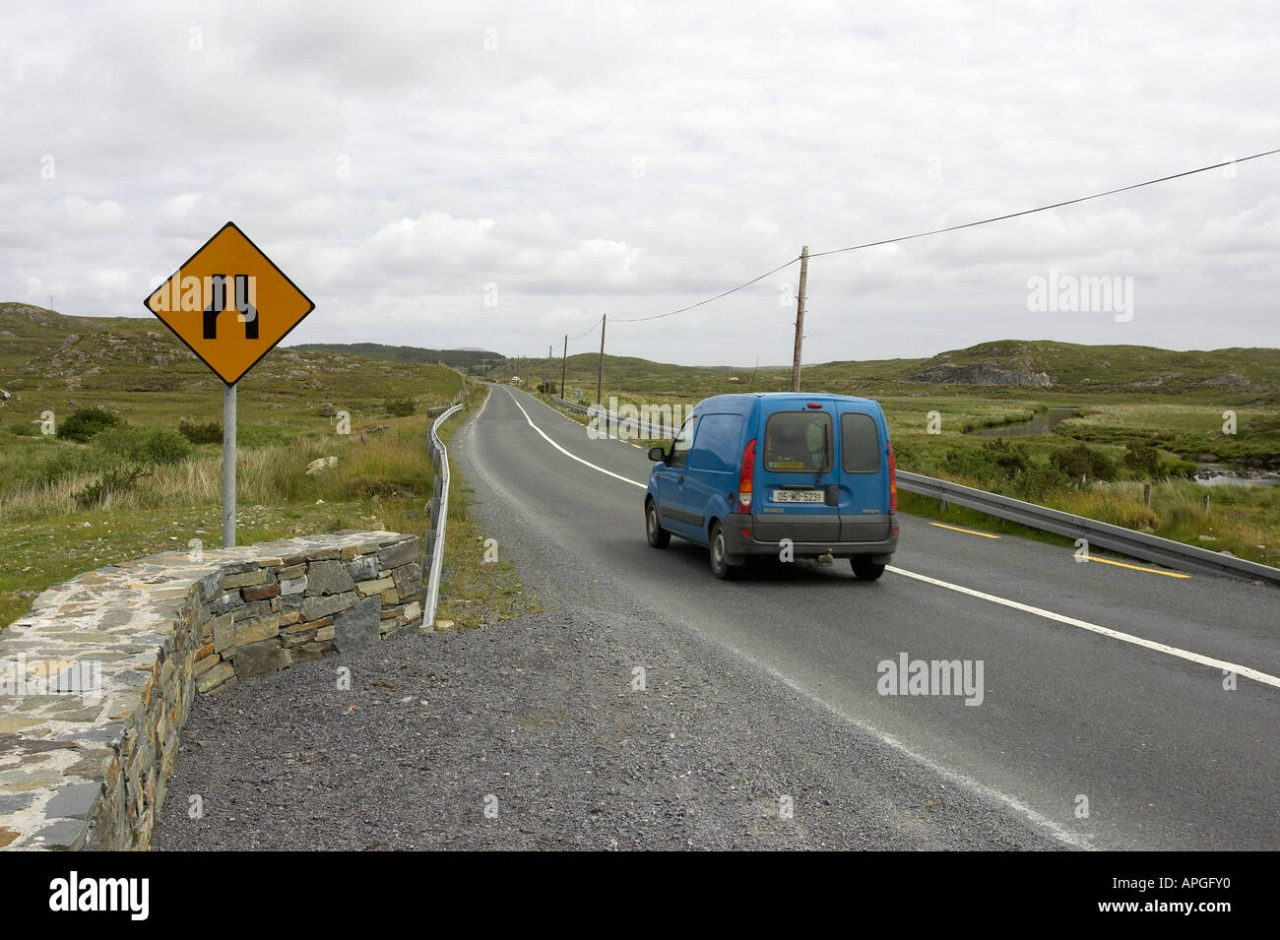car: (640, 376, 906, 592)
narrow-road: (140, 222, 320, 384)
